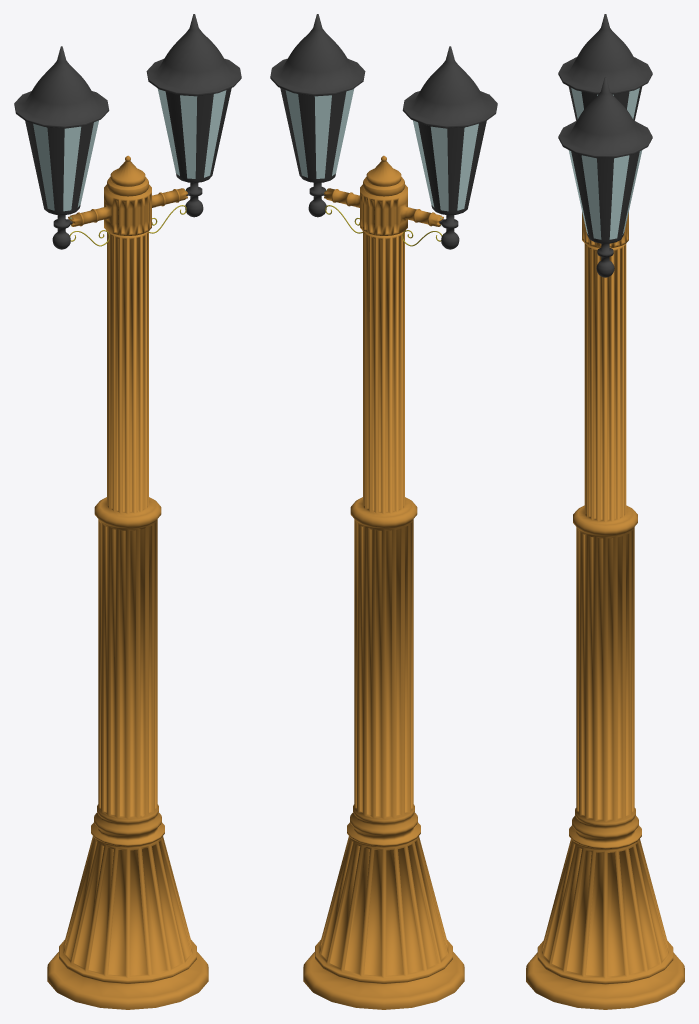
File: PosteLuz.fbx
The picture shows the model from 3 angles, left to right: view 1: azimuth 30°, elevation 25°; view 2: azimuth 150°, elevation 25°; view 3: azimuth 270°, elevation 25°; orthographic projection.
Parts seen in each view (by area): view 1: Cylinder001, Sphere003, Sphere004, Object001, Object002; view 2: Cylinder001, Sphere003, Sphere004, Object001, Object002; view 3: Cylinder001, Sphere004, Sphere003, Object001, Object002.
Boxes of the visible parts, <box> form: Cylinder001: <box>47,155,208,1009</box>; Sphere003: <box>14,46,109,249</box>; Sphere004: <box>146,14,241,217</box>; Object001: <box>157,88,226,178</box>; Object002: <box>33,120,98,211</box>; Cylinder001: <box>303,155,464,1009</box>; Sphere003: <box>402,46,497,249</box>; Sphere004: <box>270,14,365,217</box>; Object001: <box>285,88,354,178</box>; Object002: <box>413,120,478,211</box>; Cylinder001: <box>526,212,684,1009</box>; Sphere004: <box>558,77,652,277</box>; Sphere003: <box>558,14,652,120</box>; Object001: <box>568,150,642,239</box>; Object002: <box>571,88,639,119</box>.
Bounding box in the file's own units: 3178 × 13437 × 2080.
